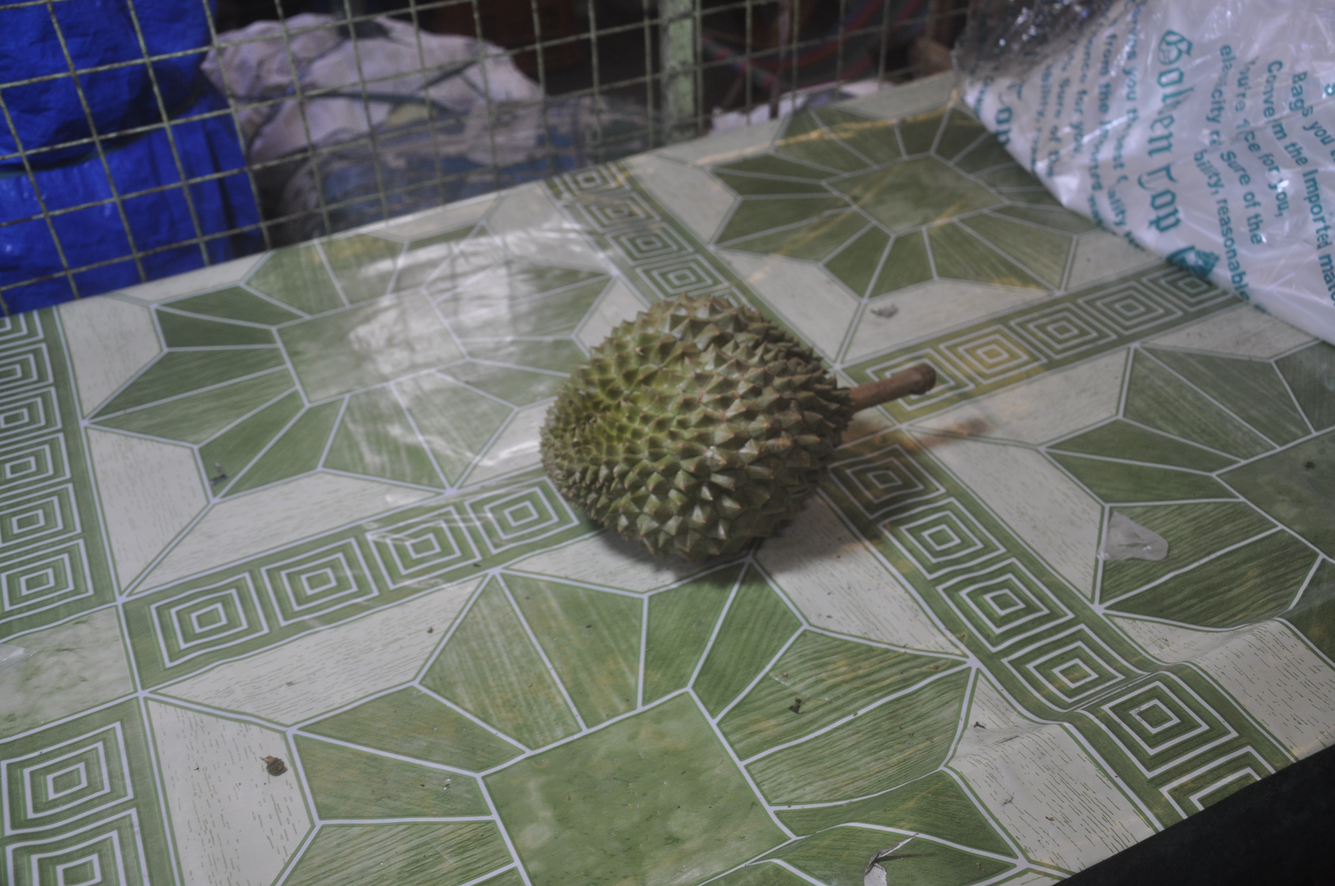mature: (540, 296, 863, 561)
